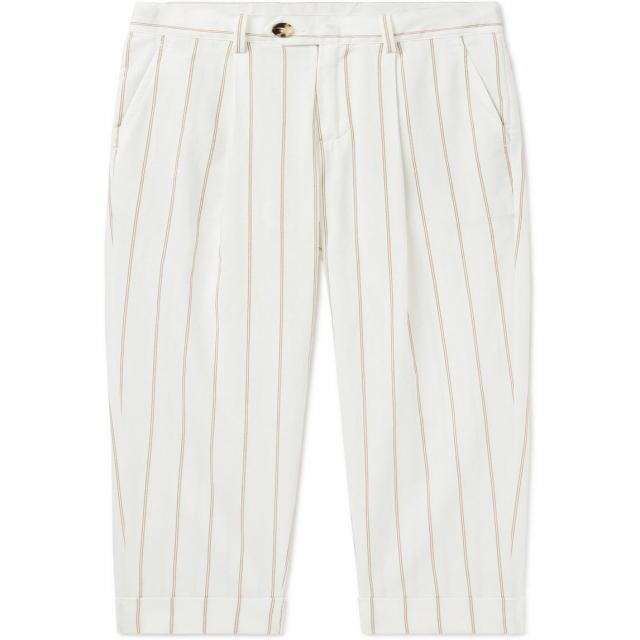long-pants: (98, 0, 537, 640)
